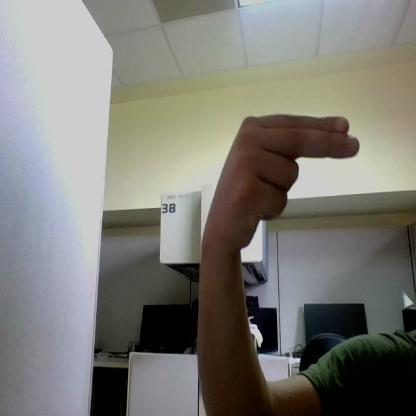H: (219, 112, 358, 252)
